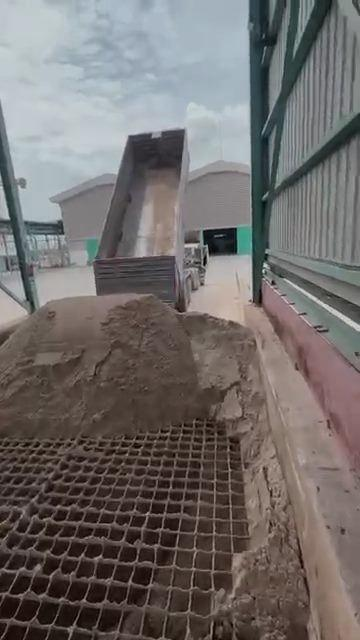sand: (0, 296, 307, 639), (146, 169, 178, 254)
